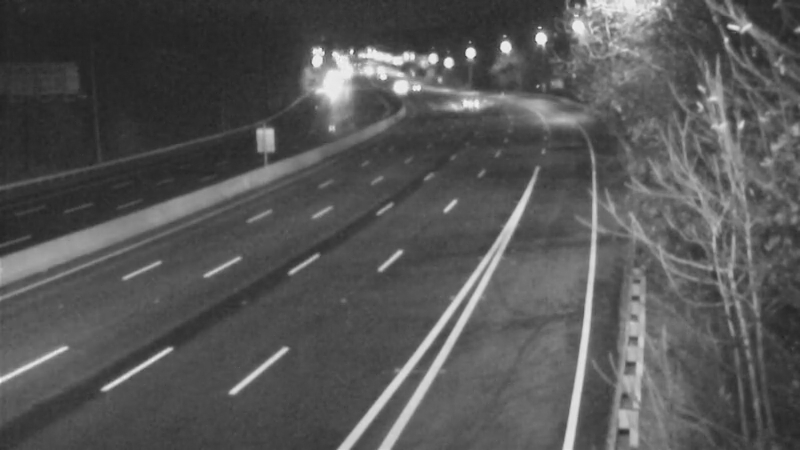vehicle: (369, 59, 419, 109), (390, 63, 440, 113), (446, 73, 496, 123)
